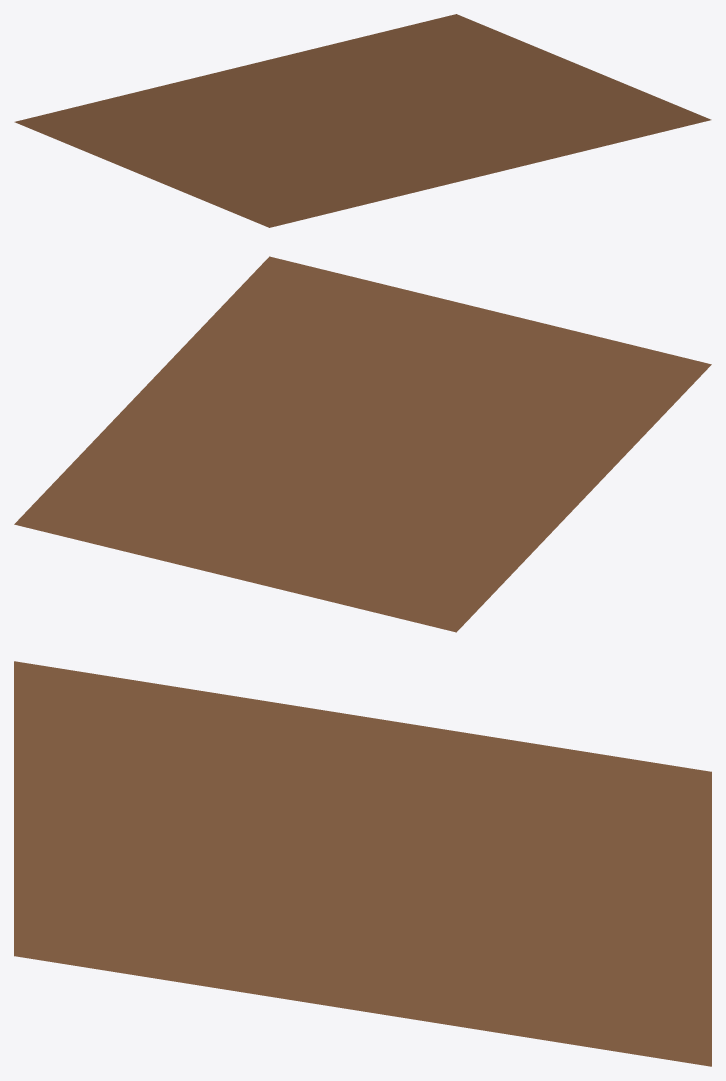
File: SPW_Terrain_Grass_Plan A_Out_mid.gltf
3 views of the same model, one above another, from view 1: azimuth 30°, elevation 25°; view 2: azimuth 150°, elevation 25°; view 3: azimuth 270°, elevation 25° (orthographic). The views are drawn at different scales.
Parts seen in each view (by area): view 1: SPW_Terrain_Grass_Plan_A_Out_mid; view 2: SPW_Terrain_Grass_Plan_A_Out_mid; view 3: SPW_Terrain_Grass_Plan_A_Out_mid.
Part boxes in pixels (x1,y1,x2,y2): SPW_Terrain_Grass_Plan_A_Out_mid: (14,14,711,227); SPW_Terrain_Grass_Plan_A_Out_mid: (14,256,711,632); SPW_Terrain_Grass_Plan_A_Out_mid: (14,661,711,1066).
Size of the model in its own units: 787 by 138 by 787.
Materials: 1 (1 with a texture image).
